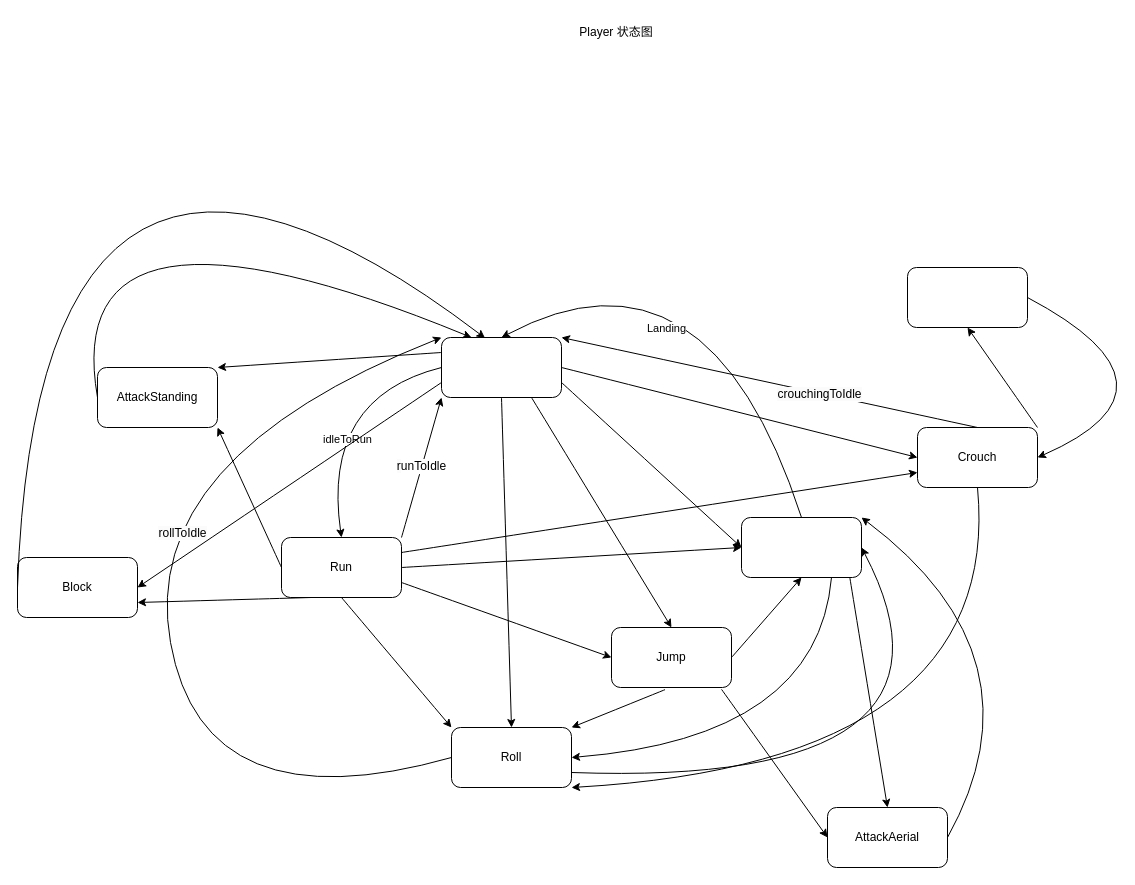
Some shapes in this 1135 by 885 pixel diagram are drawn without their labels. The shapes that lost their labels are listed below. From the top down, each one's centre as x and y in pixels, then its label:
the point at 967,297: AttackCrouching
the point at 501,367: Idle
the point at 801,547: Falling
